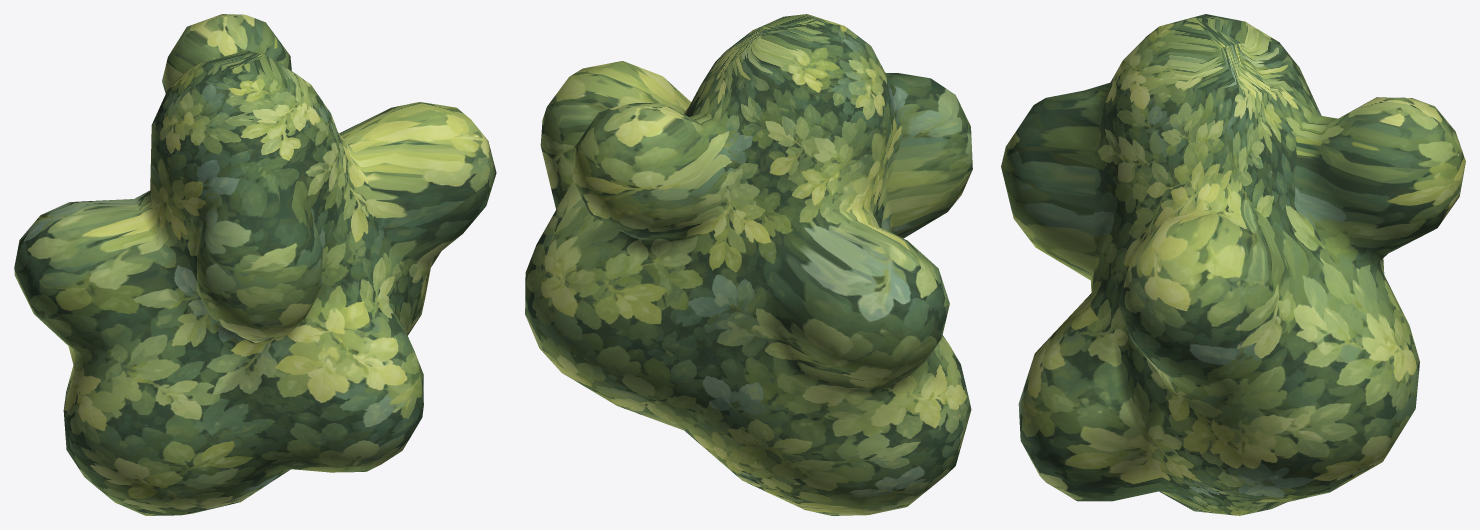
File: quality-crown-v11.glb
The picture shows the model from 3 angles, left to right: view 1: azimuth 30°, elevation 25°; view 2: azimuth 150°, elevation 25°; view 3: azimuth 270°, elevation 25°; orthographic projection. The views are drawn at different scales.
Visible parts, largest first — view 1: quality-crown-v11; view 2: quality-crown-v11; view 3: quality-crown-v11.
Boxes of the visible parts, box(x1,y1,x2,y2) form: quality-crown-v11: box(14, 14, 496, 515); quality-crown-v11: box(525, 14, 972, 515); quality-crown-v11: box(1001, 14, 1465, 515).
Size of the model in its own units: 2.06 by 2.08 by 1.76.
1 material, 1 textured.
